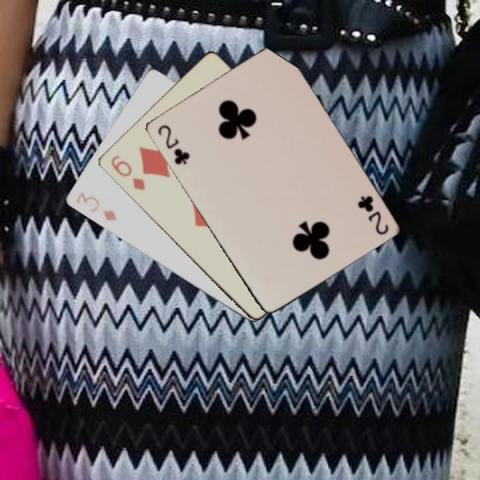2c: (154, 121, 191, 166), (354, 192, 390, 237)
3d: (72, 189, 118, 223)
6d: (107, 152, 147, 192)
